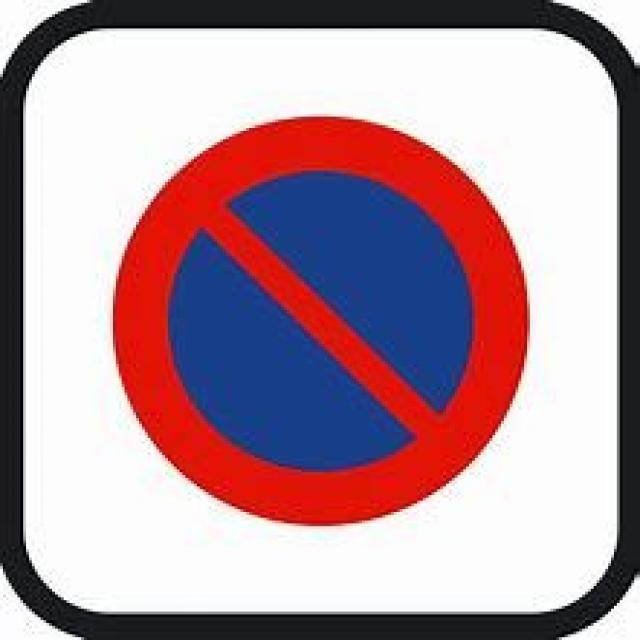NO_PARKING: (107, 113, 527, 520)
